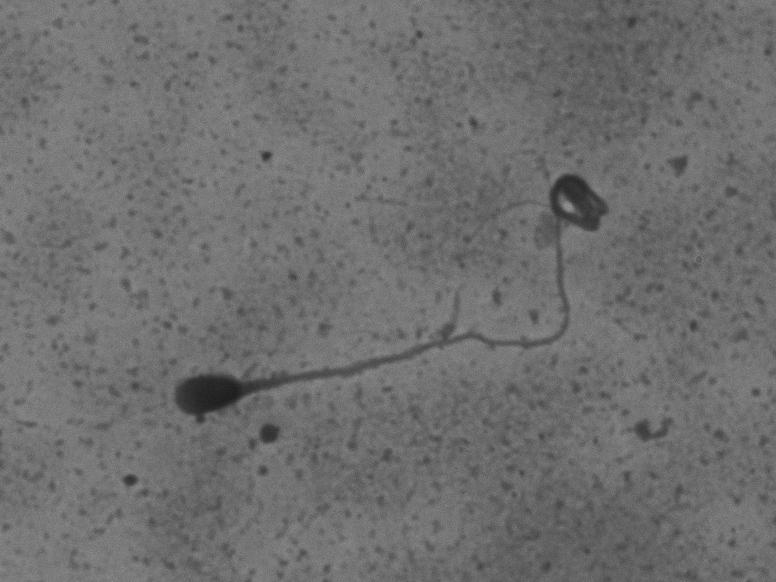Abnormal: (167, 147, 578, 437)
